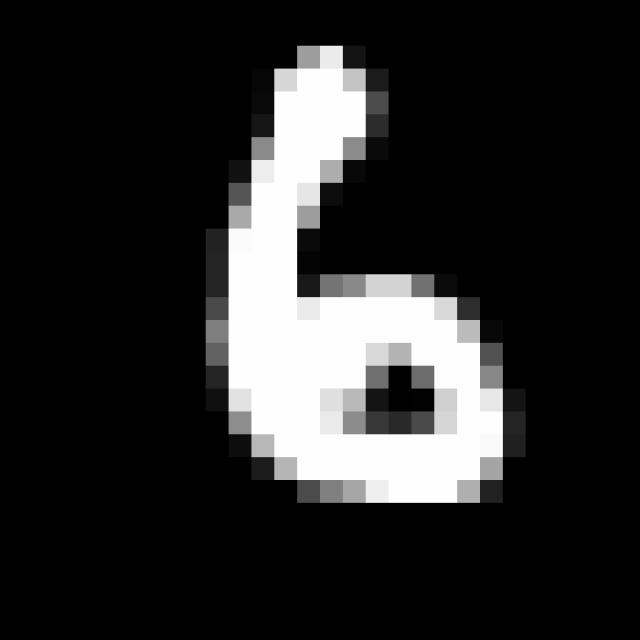six -6-: (206, 46, 517, 514)
